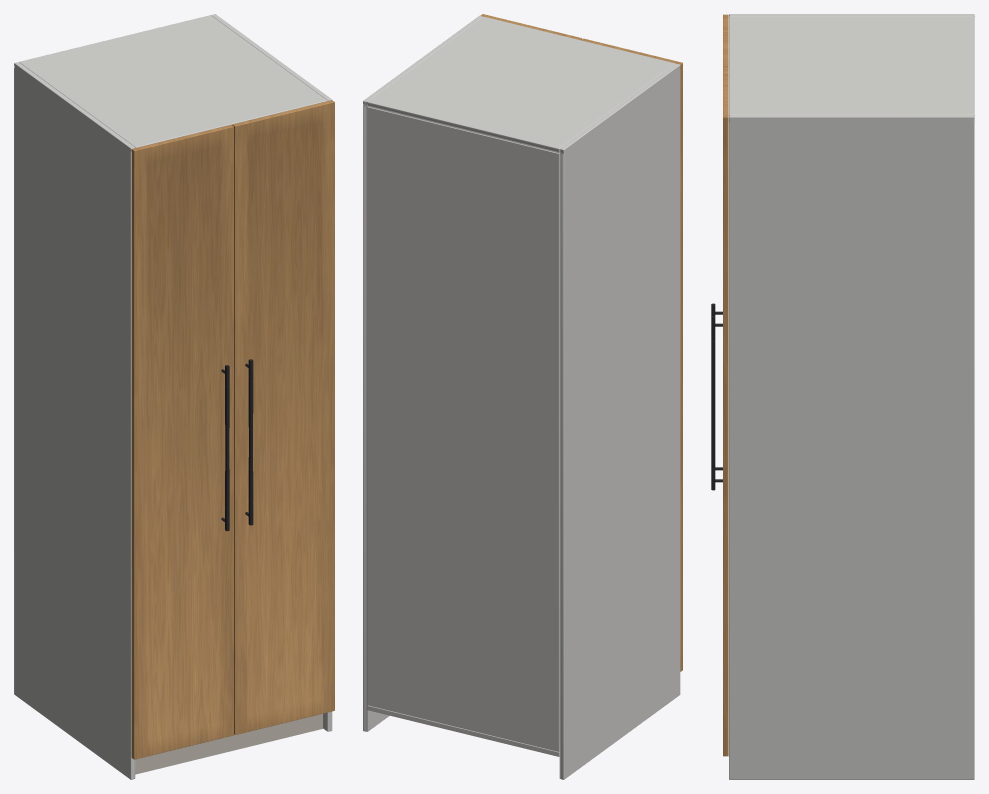
Rendered from wardrobe_3.glb.
3 views of the same model, side by side, from view 1: azimuth 30°, elevation 25°; view 2: azimuth 150°, elevation 25°; view 3: azimuth 270°, elevation 25° (orthographic). The views are drawn at different scales.
Visible parts, largest first — view 1: wardrobe_3_carcass, wardrobe_3_door_l, wardrobe_3_door_r, wardrobe_3_plinth, wardrobe_3_handle_r, wardrobe_3_handle_l; view 2: wardrobe_3_carcass, wardrobe_3_door_l; view 3: wardrobe_3_carcass, wardrobe_3_door_r, wardrobe_3_handle_r.
Boxes of the visible parts, x1,y1,x2,y2 form: wardrobe_3_carcass: (14, 14, 332, 779); wardrobe_3_door_l: (131, 124, 233, 759); wardrobe_3_door_r: (232, 100, 334, 734); wardrobe_3_plinth: (135, 713, 322, 774); wardrobe_3_handle_r: (245, 359, 253, 525); wardrobe_3_handle_l: (221, 365, 229, 531); wardrobe_3_carcass: (363, 15, 680, 779); wardrobe_3_door_l: (581, 38, 682, 671); wardrobe_3_carcass: (729, 14, 974, 779); wardrobe_3_door_r: (723, 66, 728, 756); wardrobe_3_handle_r: (711, 316, 722, 490).
Size of the model in its own units: 0.768 by 2.3 by 0.827.
Materials: 4 (1 with a texture image).
